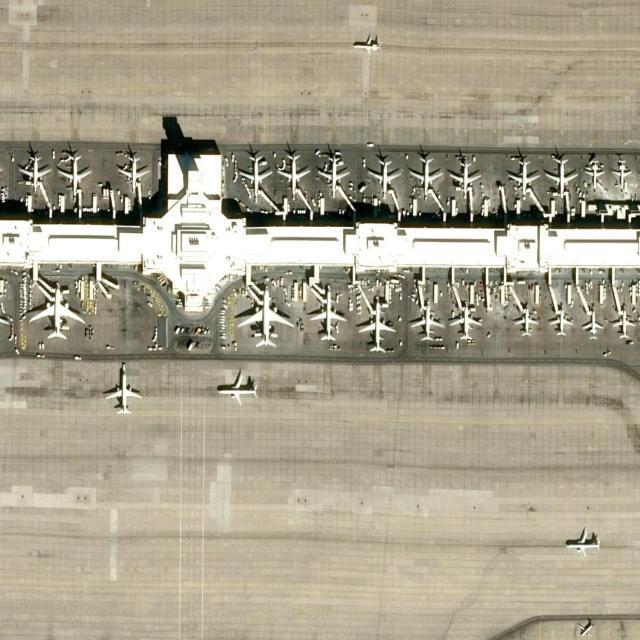Aircraft: (236, 287, 296, 347), (28, 279, 86, 341), (99, 362, 142, 416), (235, 148, 275, 200), (357, 301, 395, 353), (310, 289, 346, 343), (277, 149, 313, 198), (211, 368, 257, 404), (364, 156, 402, 198), (316, 153, 350, 197), (116, 151, 150, 193), (17, 153, 52, 193), (58, 153, 91, 195), (412, 303, 442, 348), (508, 156, 540, 198), (546, 155, 576, 199), (408, 156, 440, 197), (451, 305, 483, 344), (450, 158, 482, 196), (561, 529, 603, 553), (549, 310, 575, 340), (515, 309, 541, 337), (582, 310, 604, 340), (352, 35, 382, 57), (612, 159, 630, 191), (613, 311, 635, 337), (586, 161, 604, 189)
